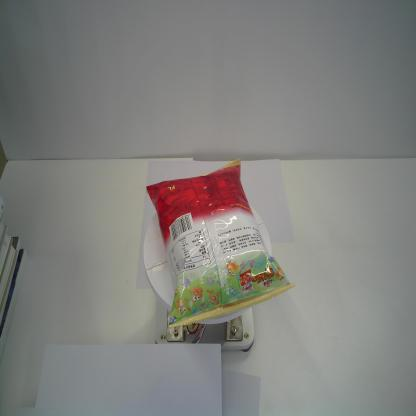Puffed Food: (145, 158, 295, 330)
